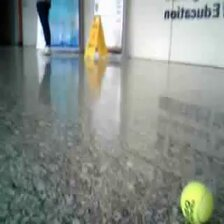tennis: (179, 180, 215, 224)
